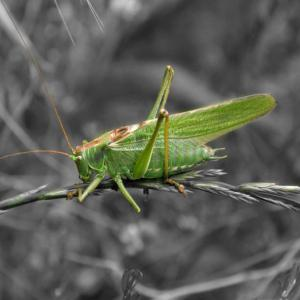locust: (61, 68, 284, 208)
